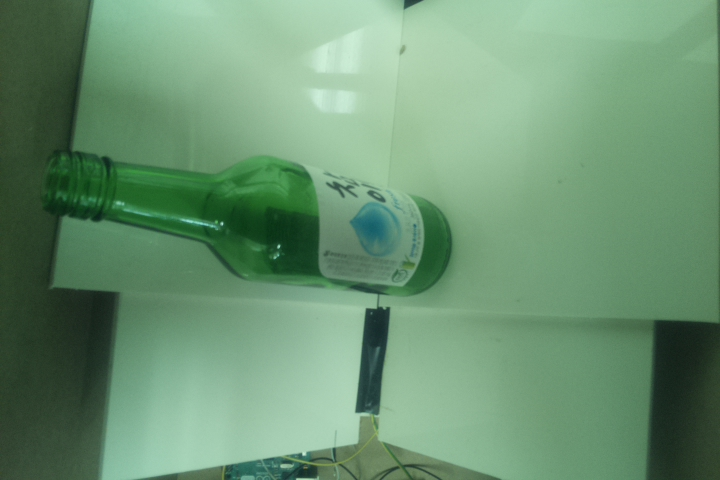soju: (41, 145, 454, 298)
